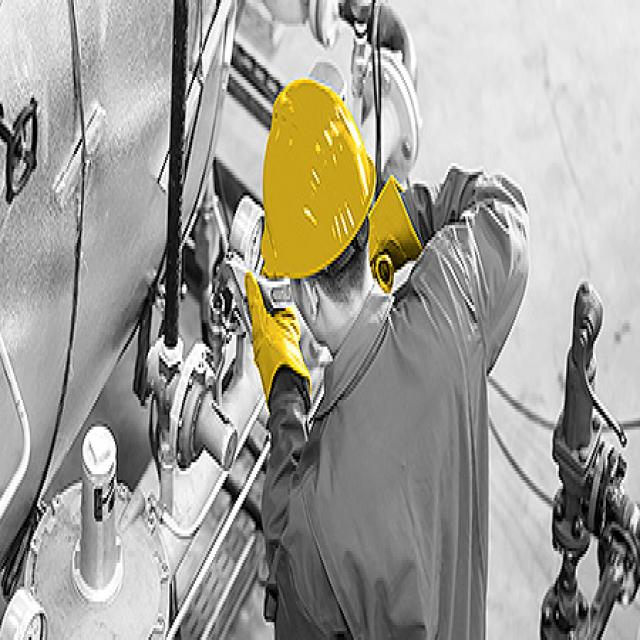Safety-Helmet: (255, 71, 378, 285)
